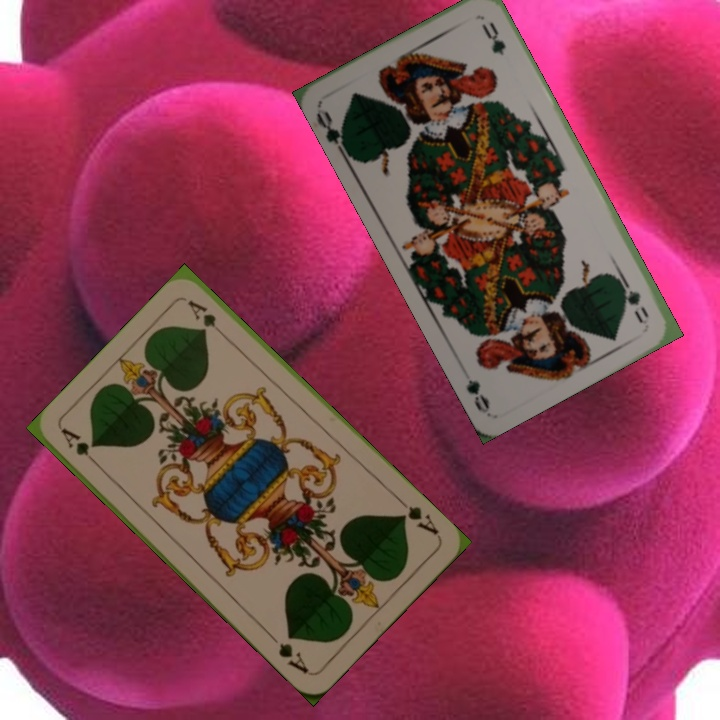GA: (57, 424, 104, 471), (394, 495, 442, 538)
GO: (312, 105, 351, 160), (613, 271, 652, 320)
